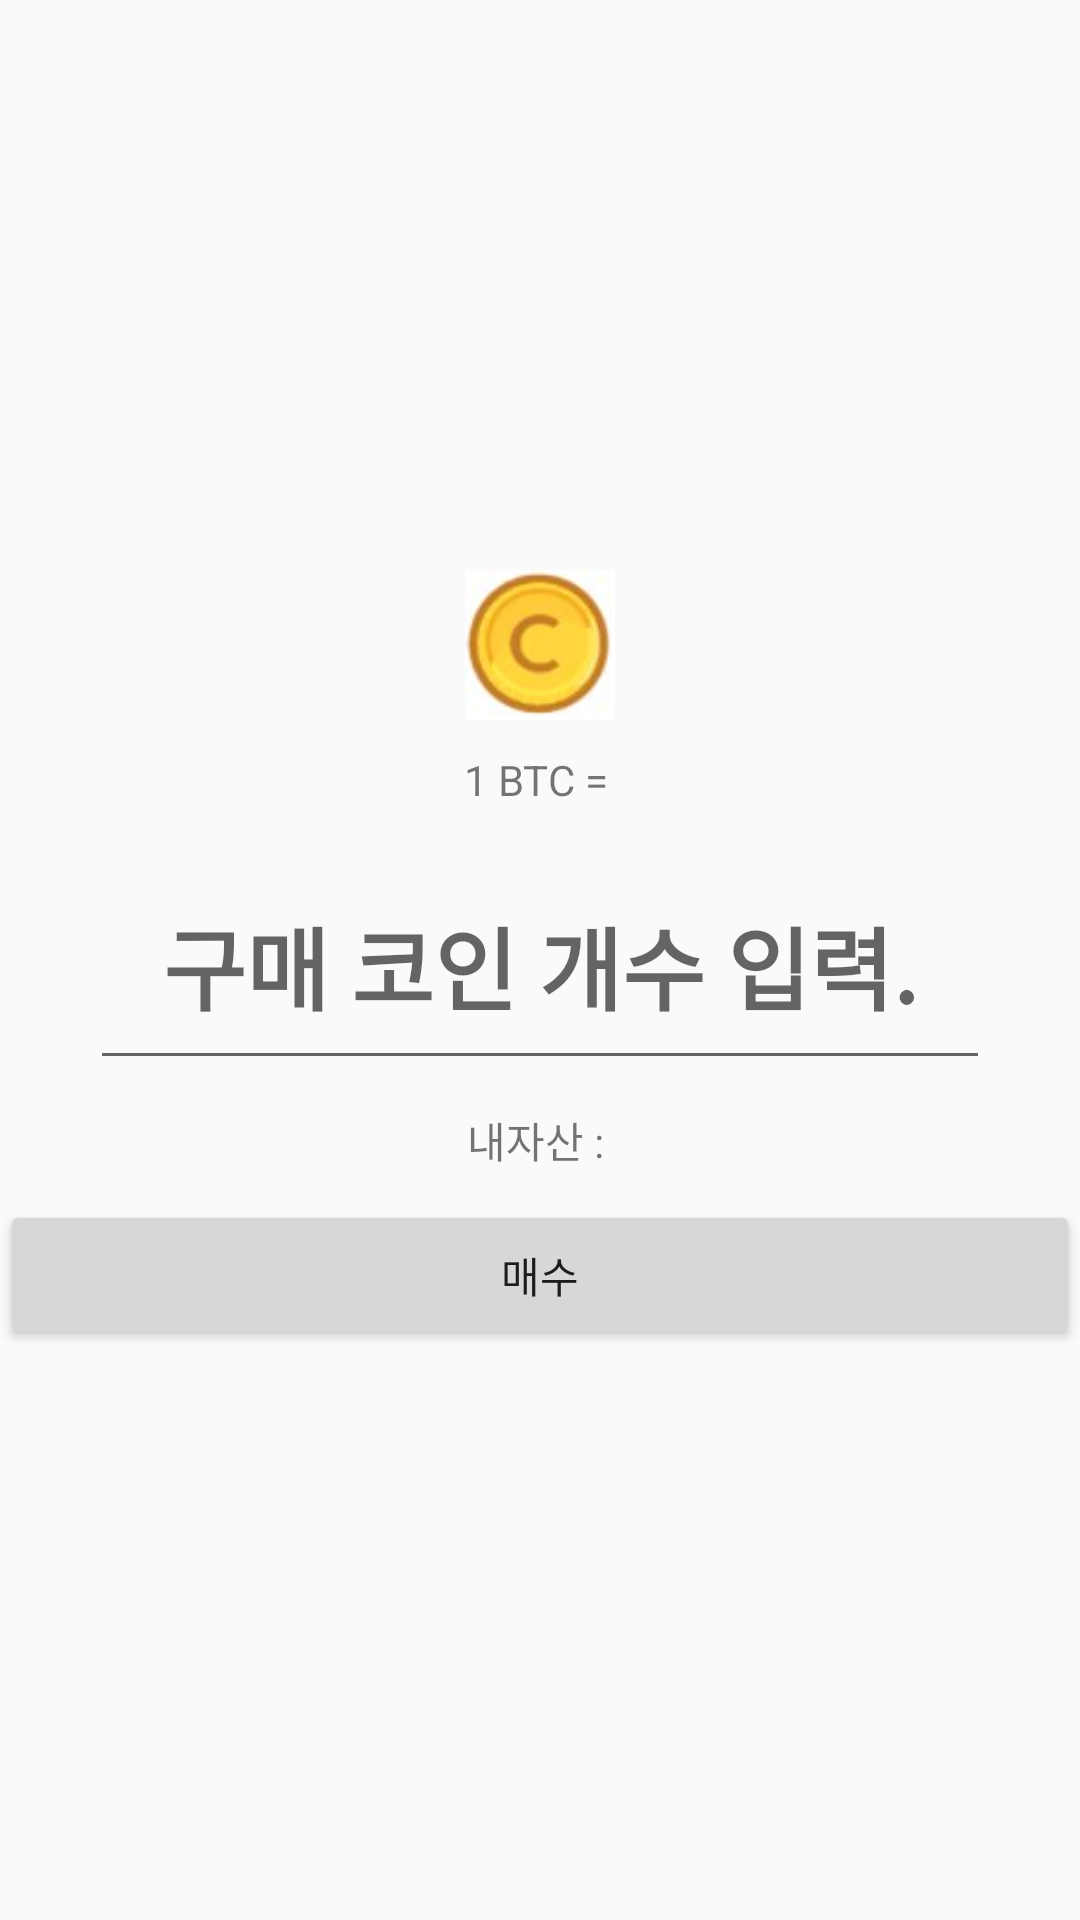

Locate icon controls on the screen. Image size 1080 x 1920, boxes as (left=x1, top=y1, right=x2, bottom=y2).
coin: (left=467, top=572, right=610, bottom=715)
